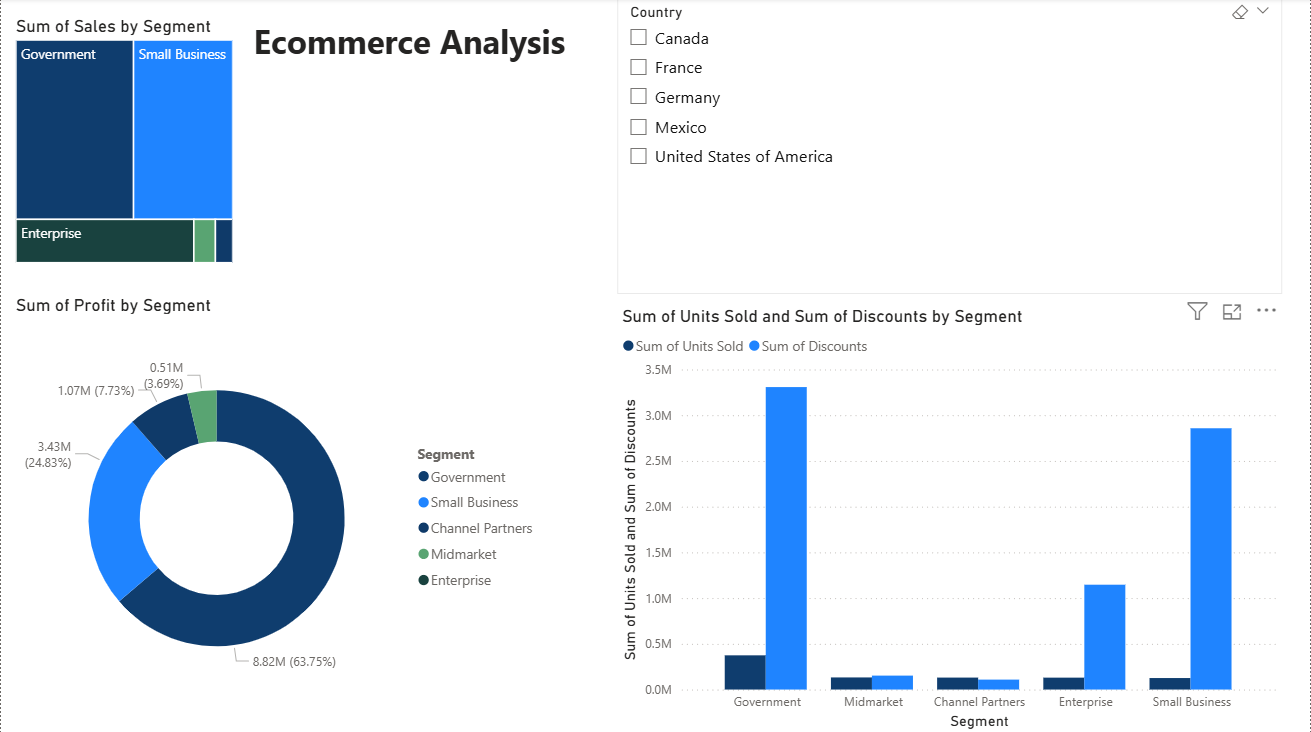

What the dashboard file says about the page in this screenshot:
{"tool":"powerbi","page":{"name":"Page 1","canvas":[1280,720],"ordinal":0},"visuals":[{"type":"textbox","box":[242.1,15.9,349.7,201.8],"z":2000},{"type":"treemap","fields":{"Values":["Sum(financials.Sales)"],"Group":["financials.Segment"]},"box":[10,17,222,247],"z":3000},{"type":"donutChart","fields":{"Y":["Sum(financials.Profit)"],"Category":["financials.Segment"]},"box":[9.8,289.8,524.6,419.4],"z":4000},{"type":"clusteredColumnChart","fields":{"Category":["financials.Segment"],"Y":["Sum(financials.Units Sold)","Sum(financials.Discounts)"]},"box":[602.9,300.8,650.5,419.4],"z":5000},{"type":"slicer","fields":{"Values":["financials.Country"]},"box":[602.9,0,650.5,289.8],"z":5001}]}

Visuals, with their boxes in screenshot pixels (x1, y1, x2, y2), scaled from the page's 1280x720 canvas onto the 1311x732 screenshot:
textbox: region(248, 16, 606, 221)
treemap - Sum(financials.Sales) x financials.Segment: region(10, 17, 238, 268)
donutChart - Sum(financials.Profit) x financials.Segment: region(10, 295, 547, 721)
clusteredColumnChart - financials.Segment x Sum(financials.Units Sold): region(618, 306, 1284, 731)
slicer - financials.Country: region(618, 0, 1284, 295)
